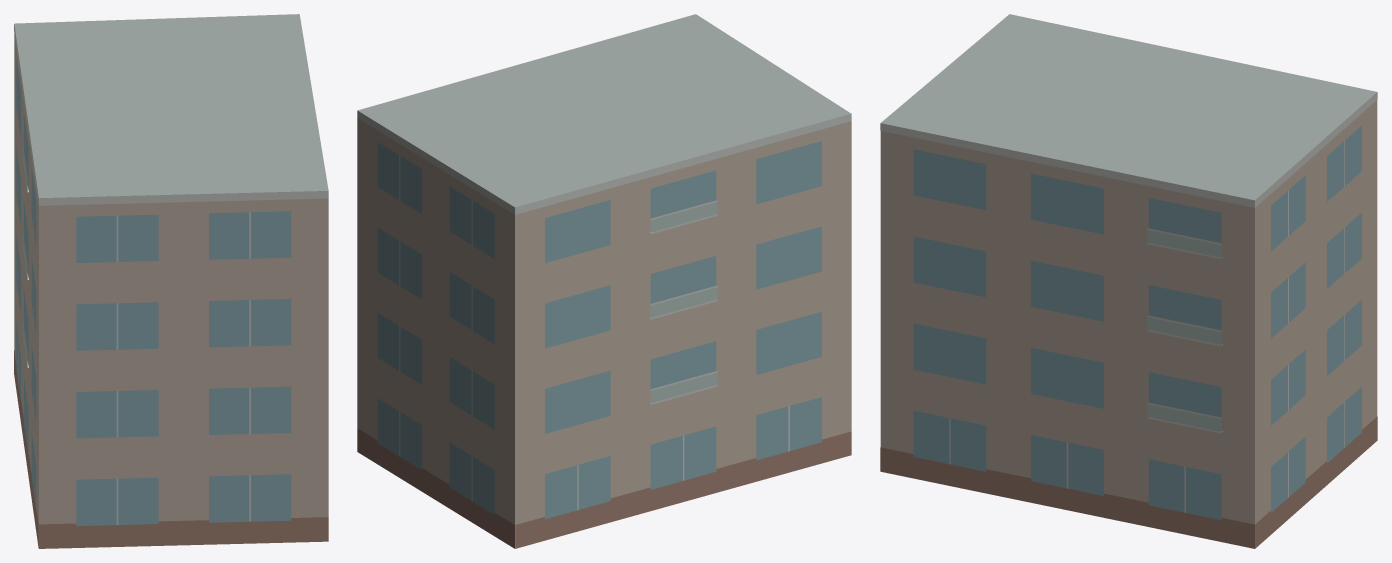
Rendered from survey-upis-32884392.glb.
The picture shows the model from 3 angles, left to right: view 1: azimuth 30°, elevation 25°; view 2: azimuth 150°, elevation 25°; view 3: azimuth 270°, elevation 25°; orthographic projection. The views are drawn at different scales.
Visible parts, largest first — view 1: survey-upis-32884392.tmp; view 2: survey-upis-32884392.tmp; view 3: survey-upis-32884392.tmp.
Part boxes in pixels (x1,y1,x2,y2): survey-upis-32884392.tmp: (14, 14, 328, 548); survey-upis-32884392.tmp: (357, 14, 851, 548); survey-upis-32884392.tmp: (880, 14, 1377, 548).
Bounding box in the file's own units: 12.85 × 11.2 × 14.49.
